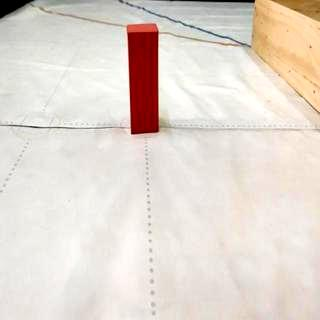redbox: (127, 24, 160, 136)
